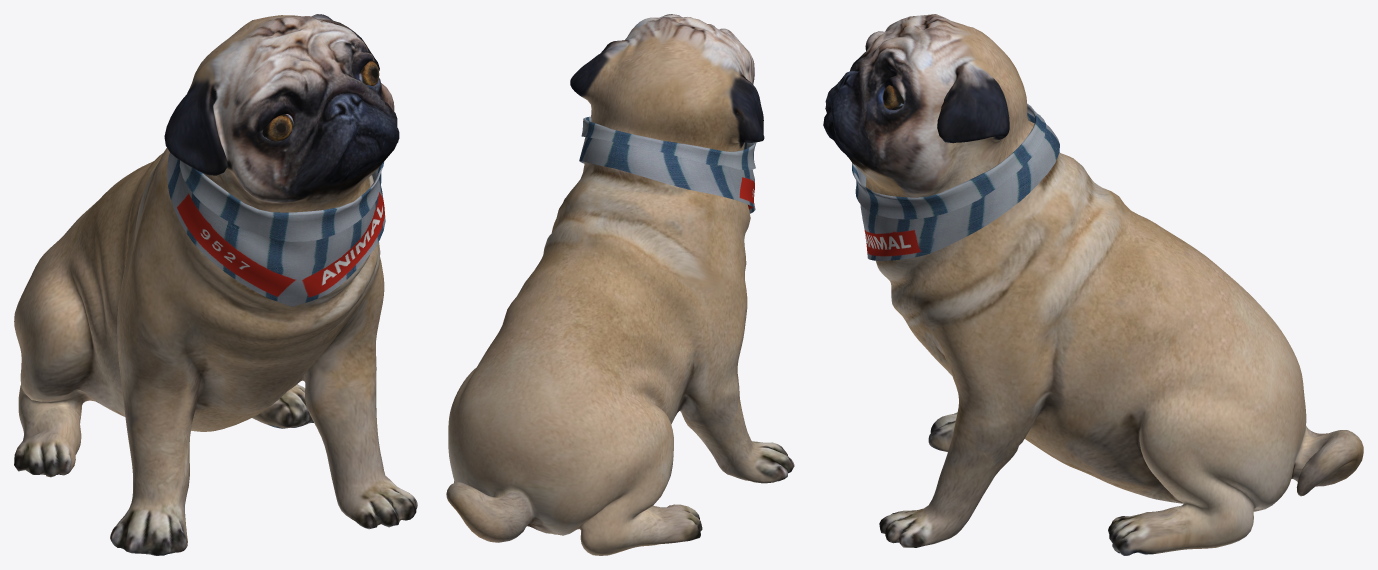
The model's file is a_pug.glb.
The picture shows the model from 3 angles, left to right: view 1: azimuth 30°, elevation 25°; view 2: azimuth 150°, elevation 25°; view 3: azimuth 270°, elevation 25°; orthographic projection. The views are drawn at different scales.
Visible parts, largest first — view 1: Shar Pei; view 2: Shar Pei; view 3: Shar Pei.
Boxes of the visible parts, x1,y1,x2,y2 form: Shar Pei: (14,14,417,555); Shar Pei: (446,14,794,555); Shar Pei: (823,14,1363,555).
Size of the model in its own units: 0.2128 by 0.3515 by 0.3616.
Materials: 3 (3 with a texture image).
